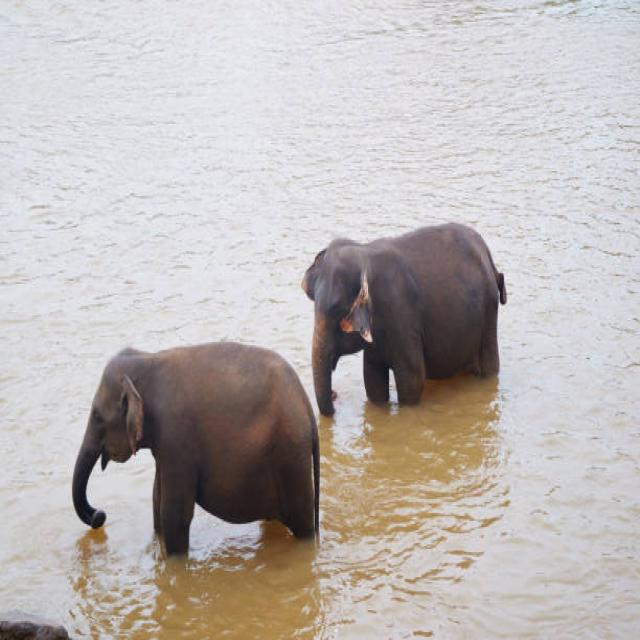Elephant: (66, 344, 330, 591), (302, 218, 504, 433)
